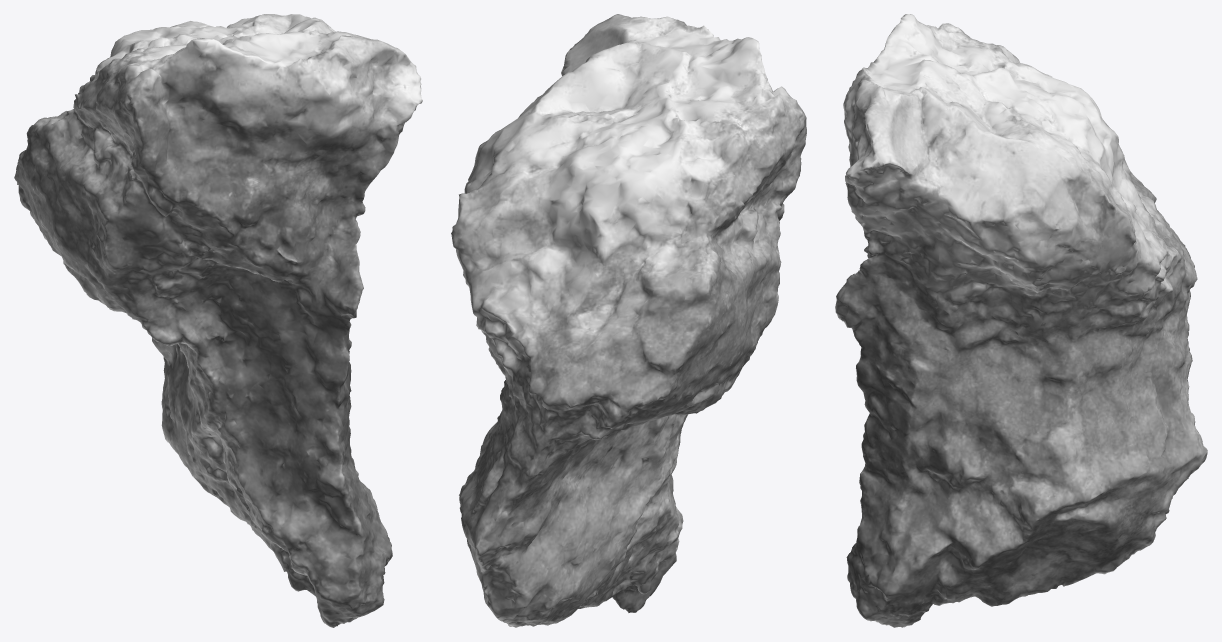
Rendered from stone-hero.glb.
3 views of the same model, side by side, from view 1: azimuth 30°, elevation 25°; view 2: azimuth 150°, elevation 25°; view 3: azimuth 270°, elevation 25° (orthographic). The views are drawn at different scales.
Parts seen in each view (by area): view 1: stone_01; view 2: stone_01; view 3: stone_01.
Boxes of the visible parts, x1,y1,x2,y2 form: stone_01: (14,14,422,627); stone_01: (451,14,806,627); stone_01: (835,14,1207,627).
Bounding box in the file's own units: 0.0718 × 0.1469 × 0.0891.
Materials: 1 (1 with a texture image).
